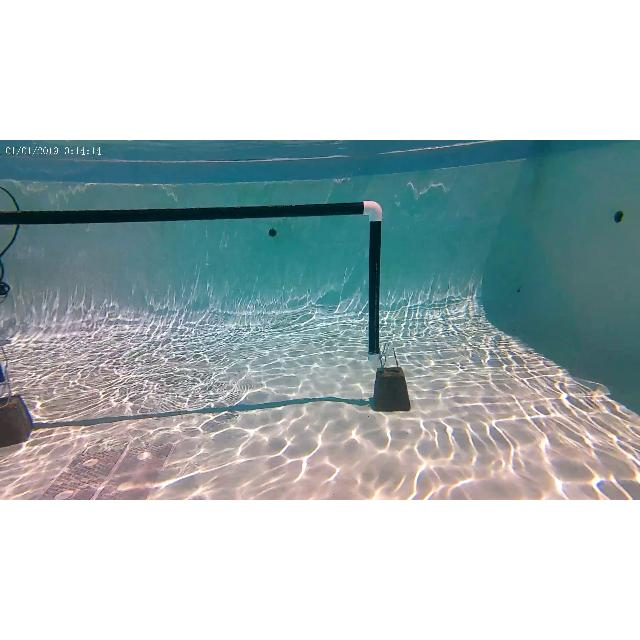prequal gate: (1, 202, 386, 390)
prequal gate leg r: (358, 200, 388, 370)
